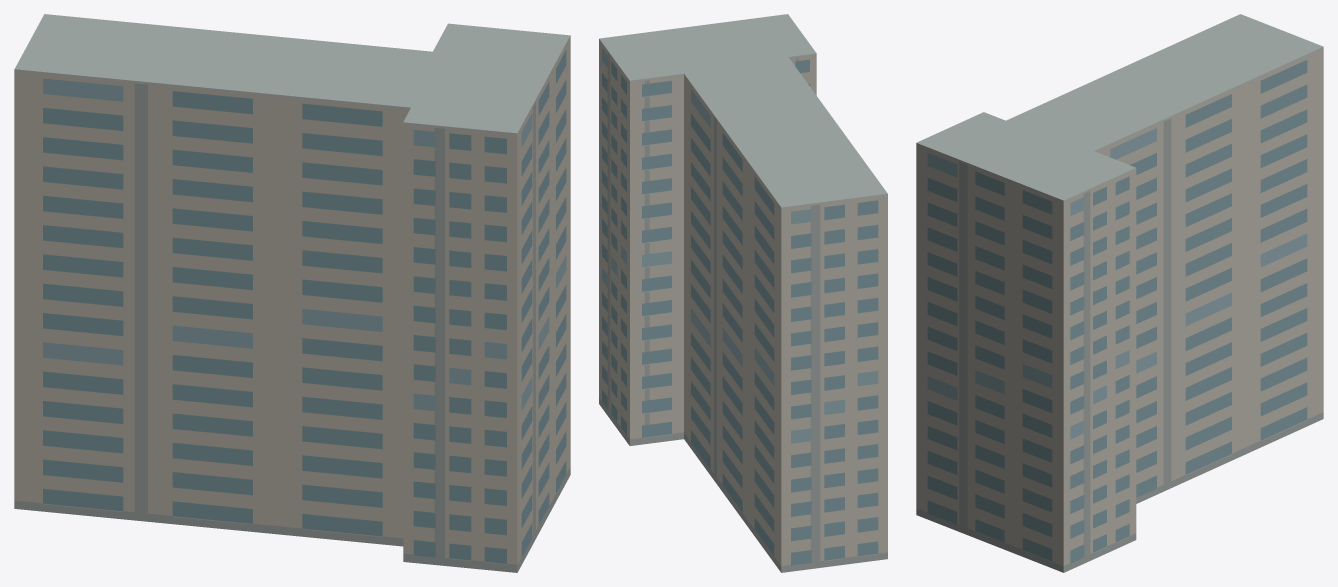
The model's file is residential-7bf4c753-485a-47c8-9285-90c81465f86f.glb.
The picture shows the model from 3 angles, left to right: view 1: azimuth 30°, elevation 25°; view 2: azimuth 150°, elevation 25°; view 3: azimuth 270°, elevation 25°; orthographic projection. The views are drawn at different scales.
Parts seen in each view (by area): view 1: residential-7bf4c753-485a-47c8-9285-90c81465f86f.tmp; view 2: residential-7bf4c753-485a-47c8-9285-90c81465f86f.tmp; view 3: residential-7bf4c753-485a-47c8-9285-90c81465f86f.tmp.
Boxes of the visible parts, bbox=[...] form: residential-7bf4c753-485a-47c8-9285-90c81465f86f.tmp: bbox=[14, 14, 570, 572]; residential-7bf4c753-485a-47c8-9285-90c81465f86f.tmp: bbox=[599, 14, 887, 572]; residential-7bf4c753-485a-47c8-9285-90c81465f86f.tmp: bbox=[916, 14, 1323, 572].
Bounding box in the file's own units: 46.25 × 43 × 42.66.
